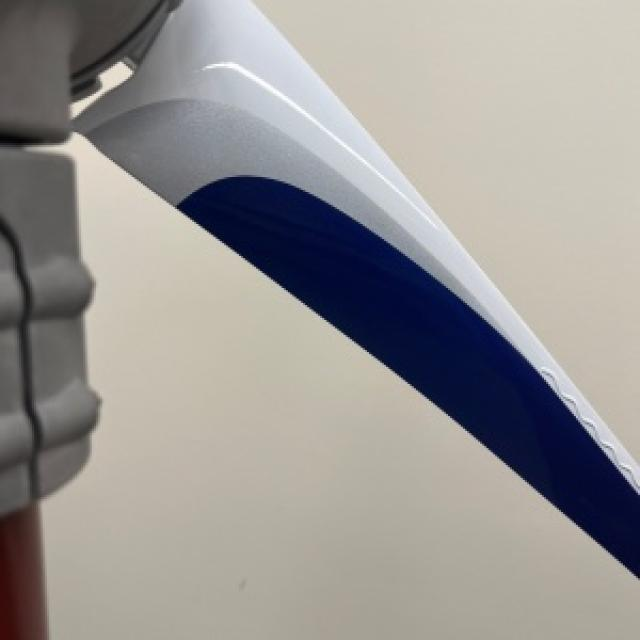healthy: (43, 134, 638, 638)
